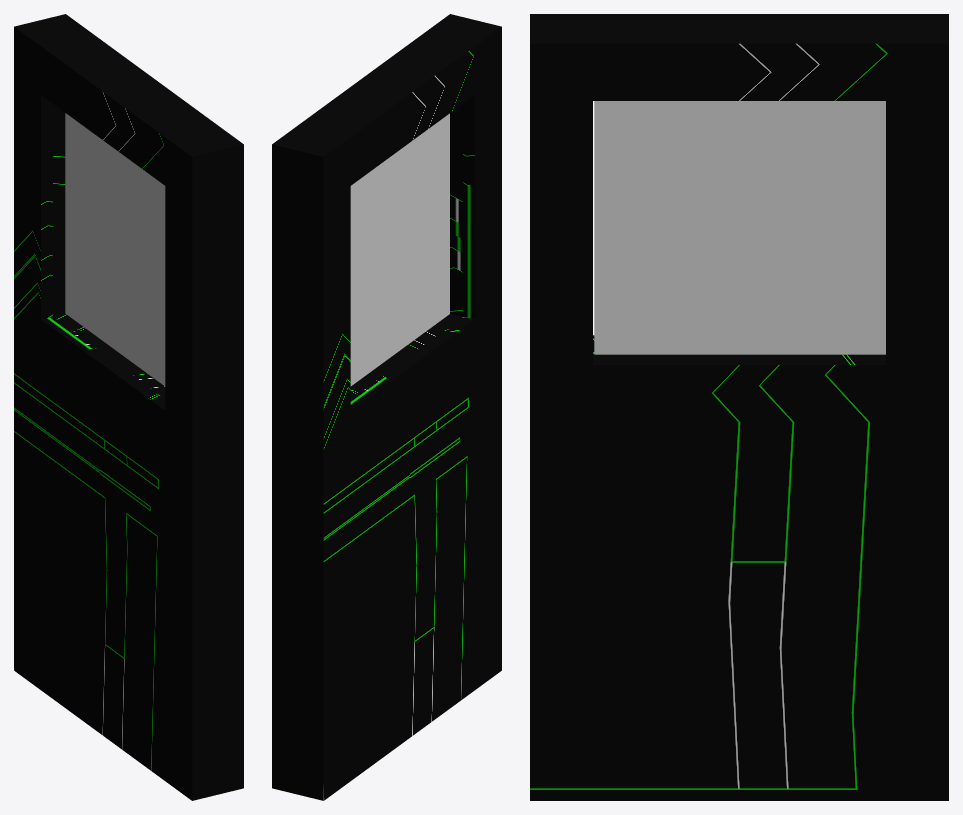
The model's file is pintu kanan.FBX.
3 renders of one model, left to right at view 1: azimuth 30°, elevation 25°; view 2: azimuth 150°, elevation 25°; view 3: azimuth 270°, elevation 25°, orthographic. The views are drawn at different scales.
Visible parts, largest first — view 1: pintu 003, Box032; view 2: pintu 003, Box032; view 3: pintu 003, Box032.
Boxes of the visible parts, box(x1,y1,x2,y2) form: pintu 003: box(14, 14, 243, 800); Box032: box(65, 113, 165, 386); pintu 003: box(272, 14, 501, 800); Box032: box(350, 113, 449, 386); pintu 003: box(530, 14, 948, 800); Box032: box(594, 101, 885, 354).
Bounding box in the file's own units: 3.34 × 39.73 × 19.92.
